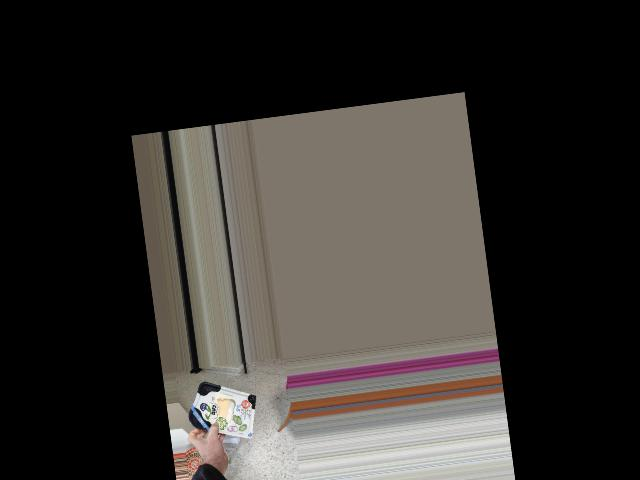cheese: (182, 380, 259, 435)
